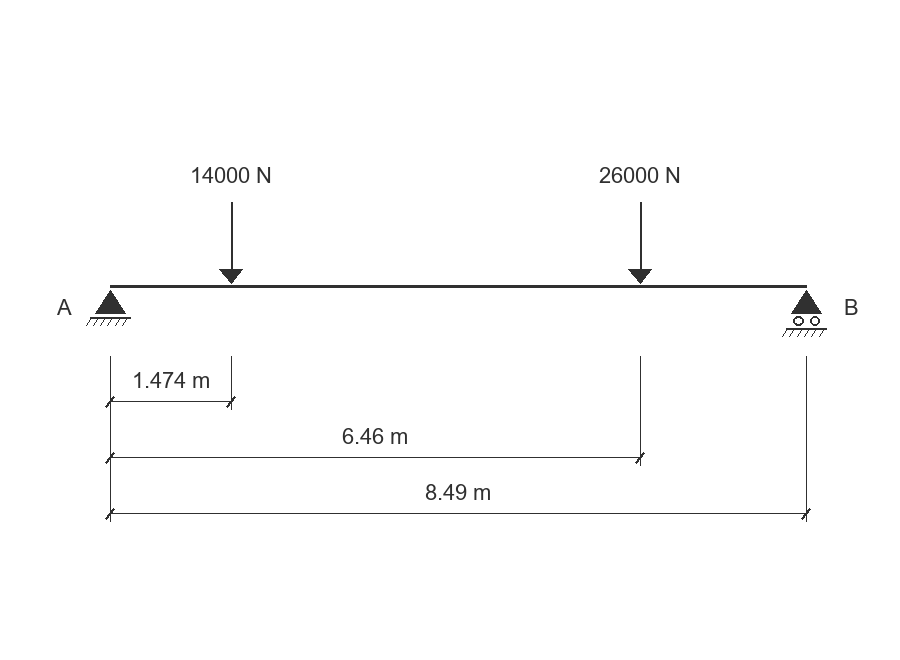pin_support: (86, 290, 131, 326)
point_load: (219, 202, 243, 284), (628, 202, 652, 284)
roller_support: (782, 290, 827, 337)
